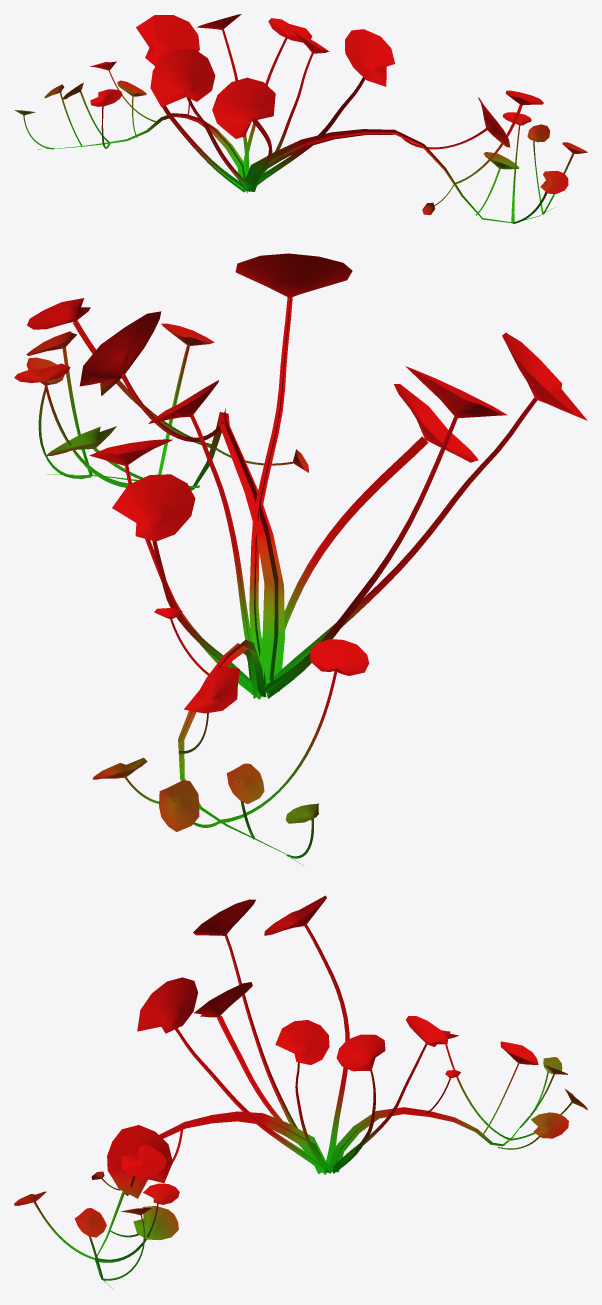
File: Var7_LOD0.fbx
3 renders of one model, top to bottom at view 1: azimuth 30°, elevation 25°; view 2: azimuth 150°, elevation 25°; view 3: azimuth 270°, elevation 25°, orthographic. The views are drawn at different scales.
Visible parts, largest first — view 1: _e2c4_Var7_LOD0; view 2: _e2c4_Var7_LOD0; view 3: _e2c4_Var7_LOD0.
Boxes of the visible parts, x1=… form: _e2c4_Var7_LOD0: x1=14, y1=14, x2=587, y2=223; _e2c4_Var7_LOD0: x1=14, y1=253, x2=587, y2=865; _e2c4_Var7_LOD0: x1=14, y1=895, x2=587, y2=1289.
Bounding box in the file's own units: 26.3 × 13.59 × 31.31.
